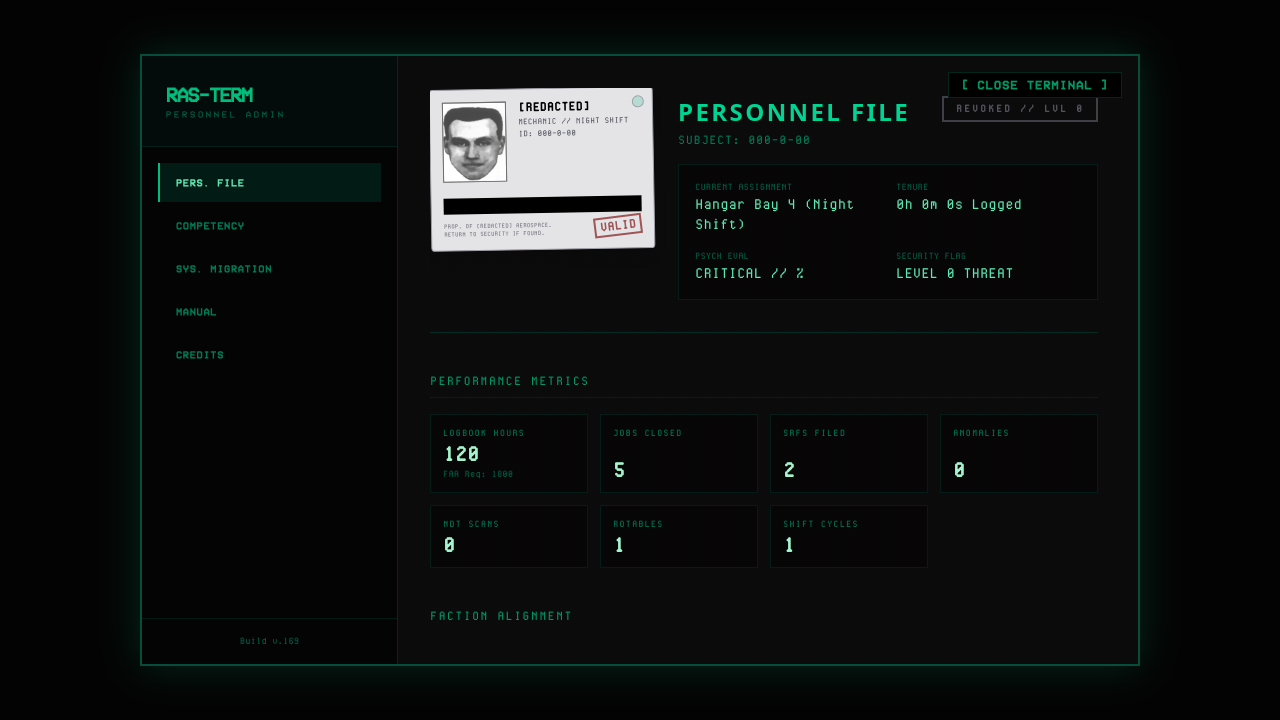
AboutModal › navigates to Field Competencies
This screenshot has width=1280, height=720.
Click the button "COMPETENCY" at (270,225), box [158, 206, 381, 244]
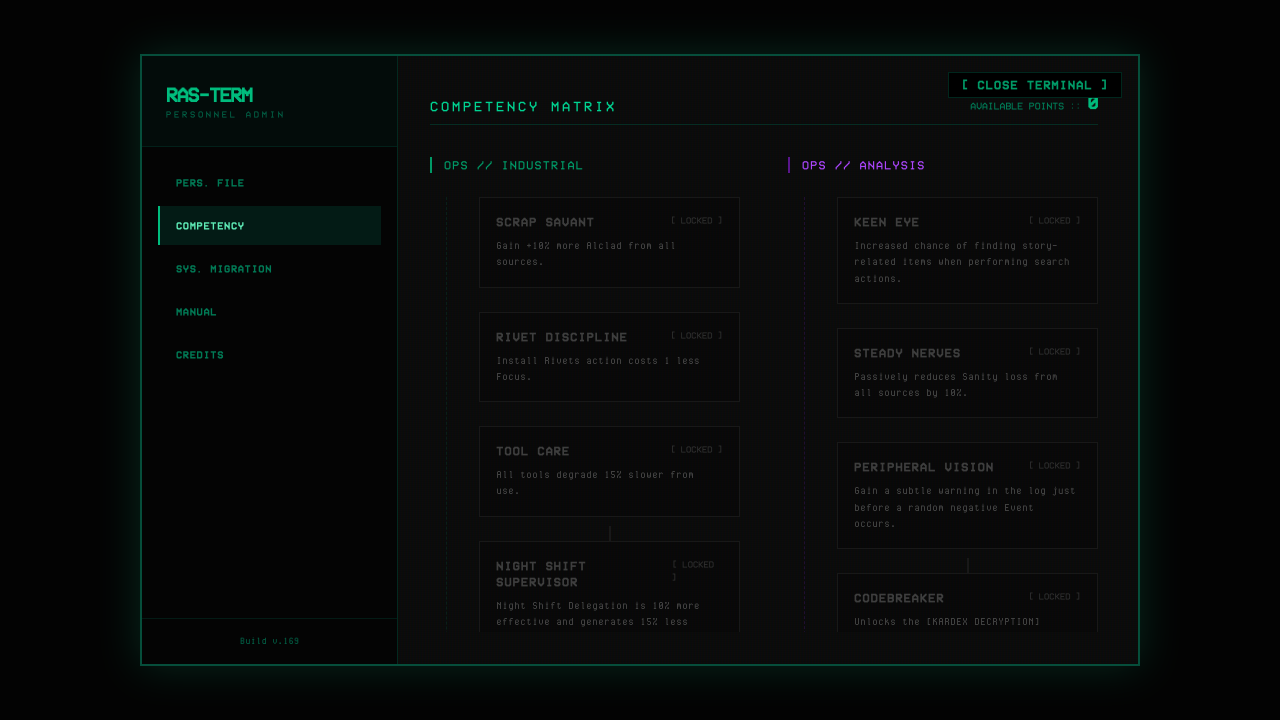
Now the heading "Competency Matrix" is shown, box [430, 96, 617, 116]
